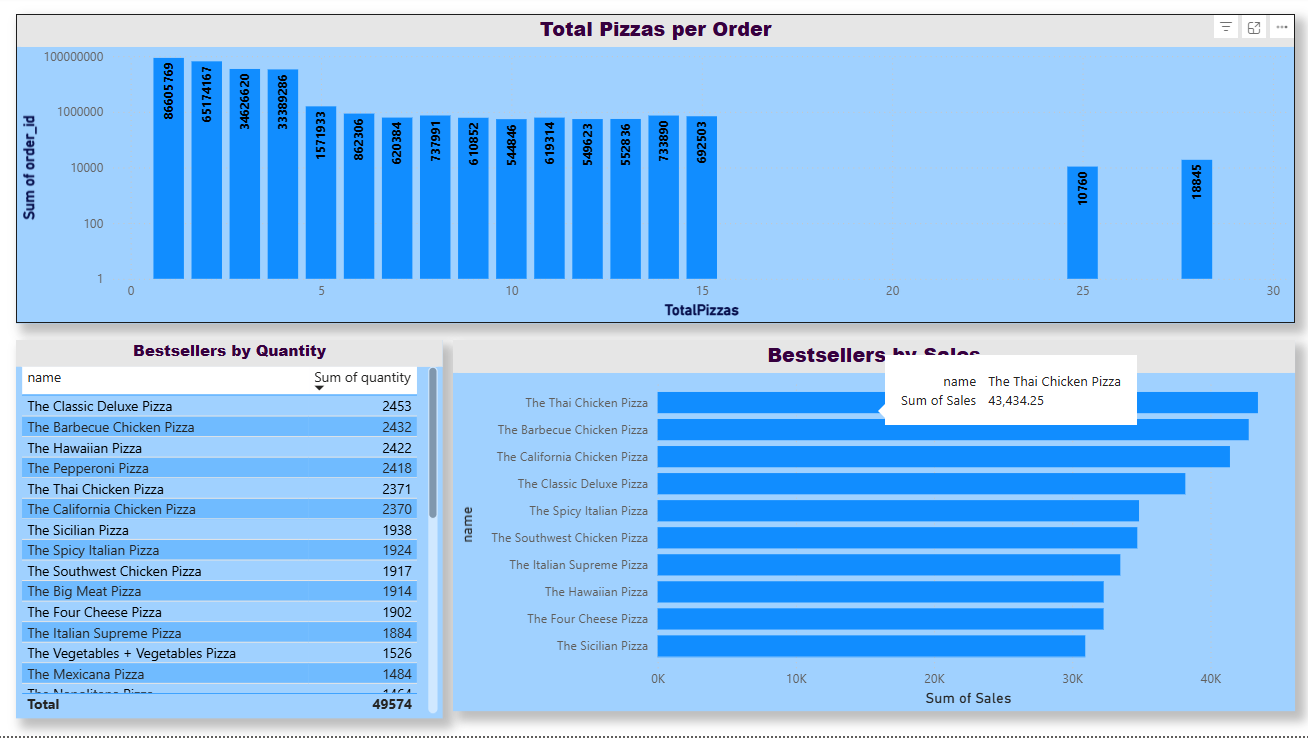

This screenshot's page, from the dashboard's own definition file:
{"tool":"powerbi","page":{"name":"PizzasPerOrder / Bestselling pizzas ","canvas":[1280,720],"ordinal":1},"visuals":[{"type":"clusteredColumnChart","title":"Total Pizzas per Order","fields":{"Category":["PizzasPerOrder.TotalPizzas"],"Y":["Sum(PizzasPerOrder.order_id)"]},"box":[17.5,17.5,1244,300.5],"z":0},{"type":"tableEx","title":"Bestsellers by Quantity","fields":{"Values":["Pizza_Types.name","Sum(Order_Details.quantity)"]},"box":[17.5,334.6,415.3,367.7],"z":1000},{"type":"barChart","title":"Bestsellers by Sales","fields":{"Category":["Pizza_Types.name"],"Y":["Sum(Order_Details.Sales)"]},"box":[442.6,334.6,819,360.9],"z":2000}]}

Visuals, with their boxes in screenshot pixels (x1, y1, x2, y2), scaled from the page's 1280x720 canvas onto the 1308x756 screenshot:
"Total Pizzas per Order" clusteredColumnChart: bbox=(18, 18, 1289, 334)
"Bestsellers by Quantity" tableEx: bbox=(18, 351, 442, 737)
"Bestsellers by Sales" barChart: bbox=(452, 351, 1289, 730)
